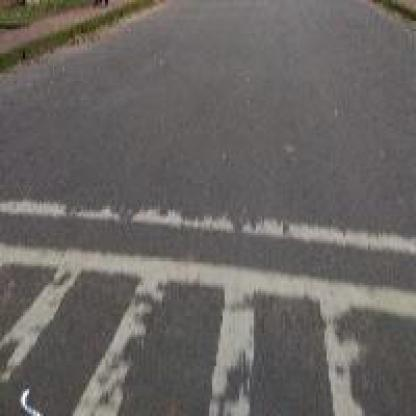Speed Bump: (0, 195, 414, 385)
